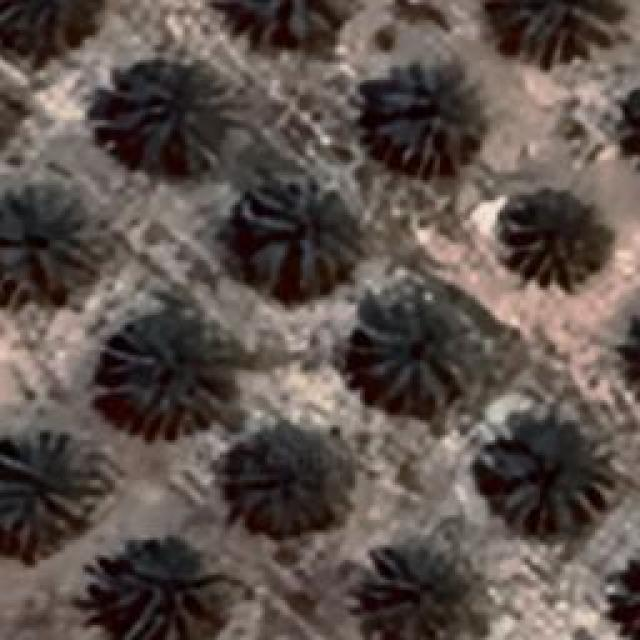PalmTree: (28, 92, 620, 594), (40, 83, 626, 124), (100, 315, 235, 435), (100, 55, 235, 175), (215, 422, 350, 536), (350, 298, 472, 412), (368, 58, 488, 172), (480, 432, 615, 532), (245, 182, 360, 296), (0, 180, 95, 305), (0, 428, 98, 548), (500, 188, 610, 290), (110, 544, 222, 638), (368, 547, 480, 635), (495, 0, 630, 60), (225, 0, 350, 48), (2, 2, 88, 68), (615, 302, 640, 410), (623, 301, 640, 412), (621, 77, 640, 164), (628, 303, 640, 410)
